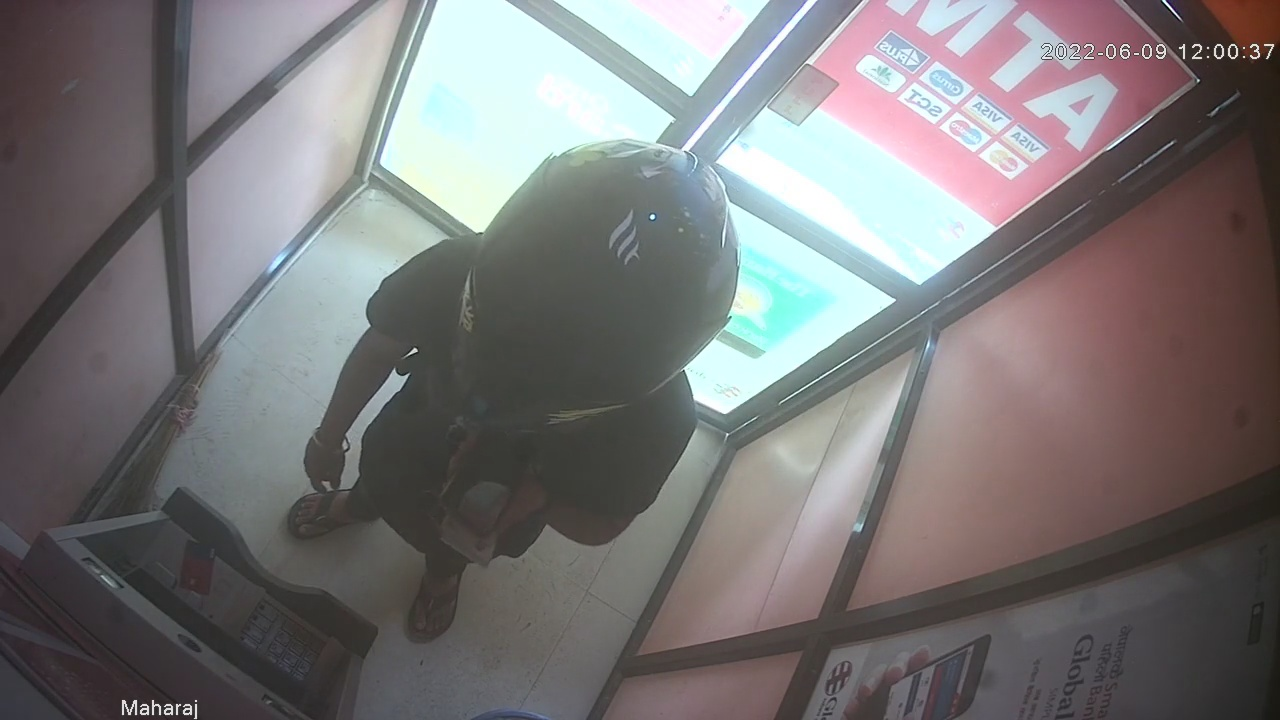helmet: (448, 138, 740, 432)
person: (288, 137, 739, 643)
